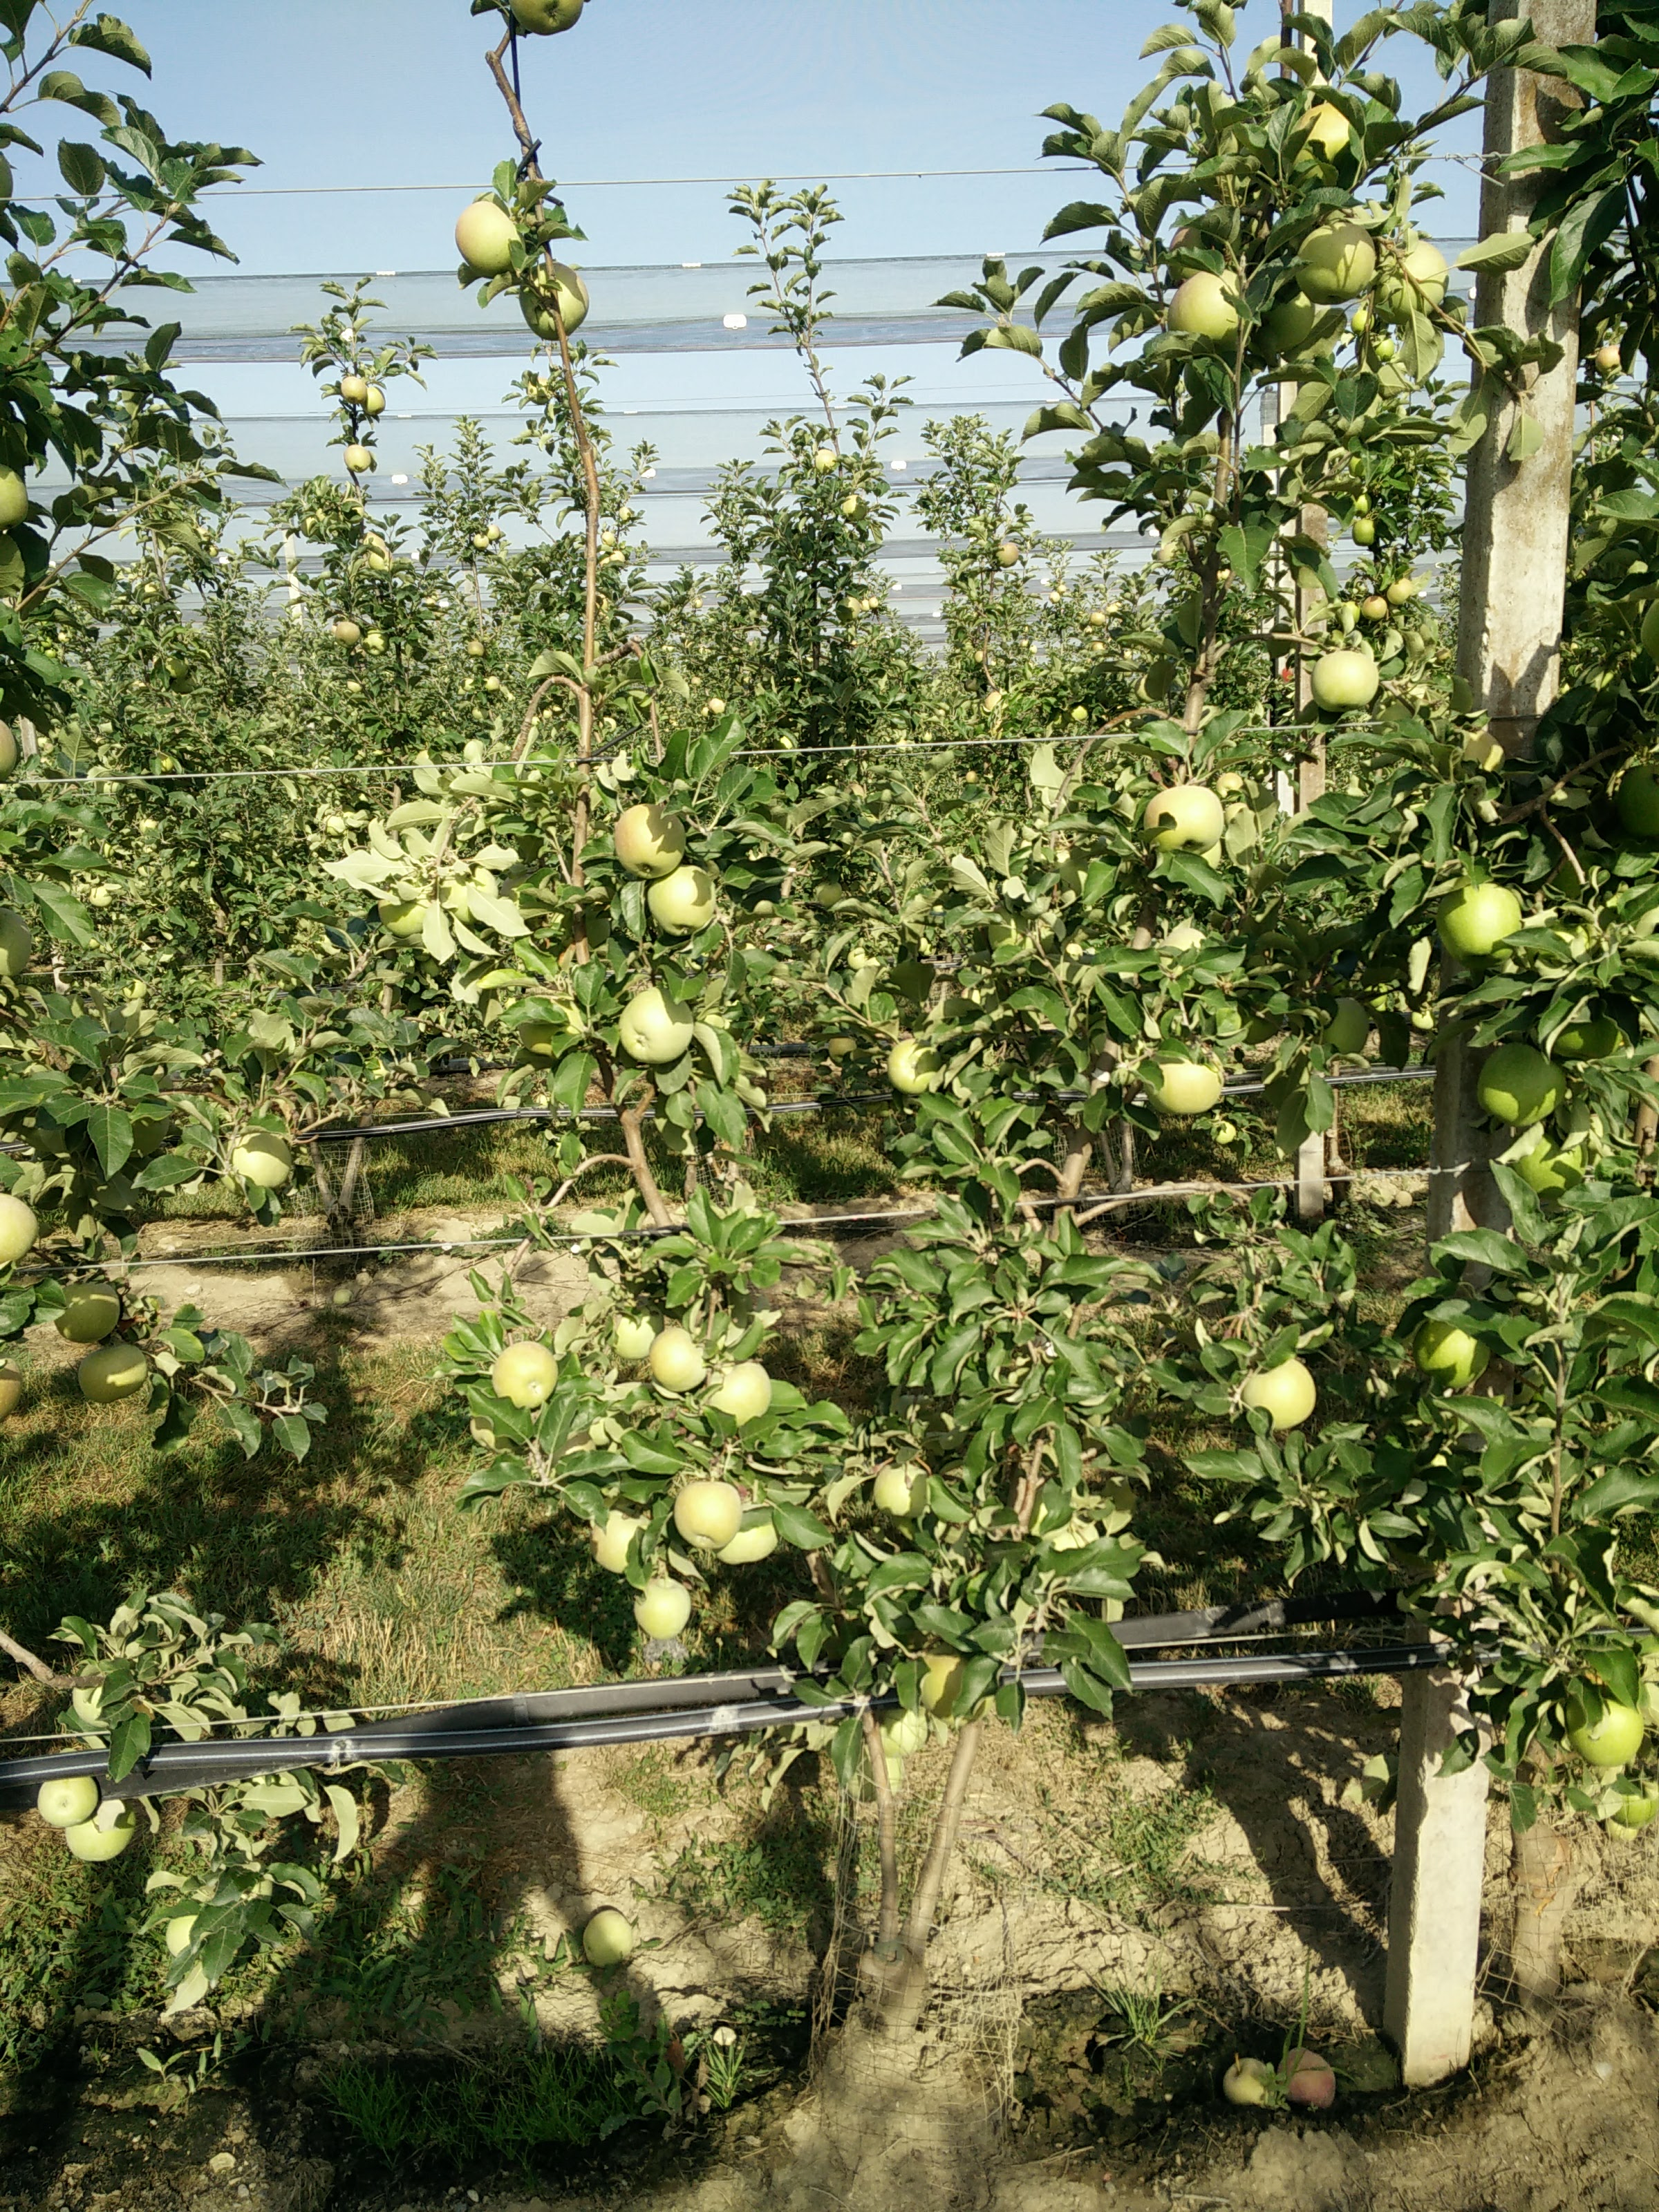apple: (1432, 878, 1530, 964), (1474, 1035, 1565, 1121), (1140, 1047, 1230, 1119), (1143, 780, 1226, 856), (1235, 1354, 1322, 1428), (615, 993, 699, 1065), (667, 1479, 745, 1550), (483, 1340, 563, 1409), (1571, 1700, 1648, 1772), (612, 805, 686, 877), (646, 862, 718, 933), (215, 1128, 292, 1194), (628, 1566, 697, 1639), (646, 1324, 720, 1387), (1309, 646, 1382, 710), (703, 1361, 776, 1424), (44, 1281, 123, 1336), (76, 1342, 150, 1403), (68, 1806, 133, 1866), (867, 1459, 933, 1515), (33, 1770, 97, 1824), (885, 1039, 944, 1092)
